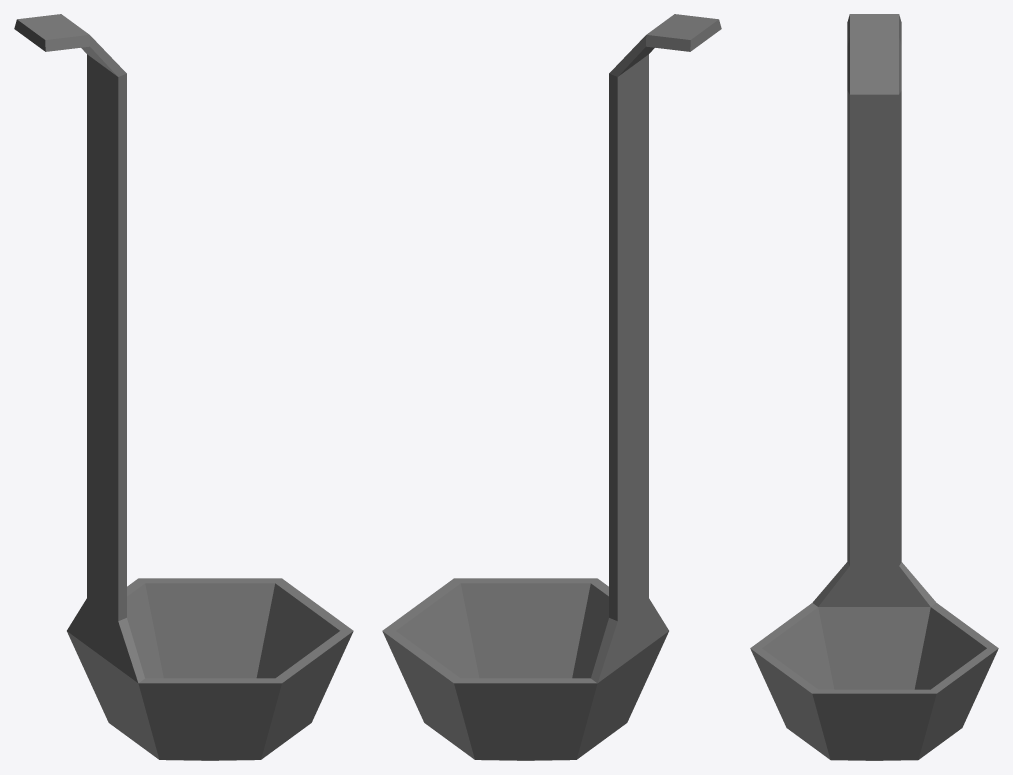
Rendered from Ladel.fbx.
3 renders of one model, left to right at view 1: azimuth 30°, elevation 25°; view 2: azimuth 150°, elevation 25°; view 3: azimuth 270°, elevation 25°, orthographic. The views are drawn at different scales.
Parts seen in each view (by area): view 1: Ladel; view 2: Ladel; view 3: Ladel.
Boxes of the visible parts, x1,y1,x2,y2 form: Ladel: (14,14,353,760); Ladel: (382,14,721,760); Ladel: (750,14,998,760).
Bounding box in the file's own units: 11.58 × 29.78 × 10.
Materials: 1 (1 with a texture image).
